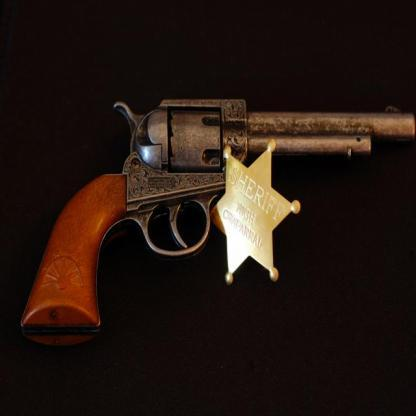weapon: (17, 97, 416, 347)
